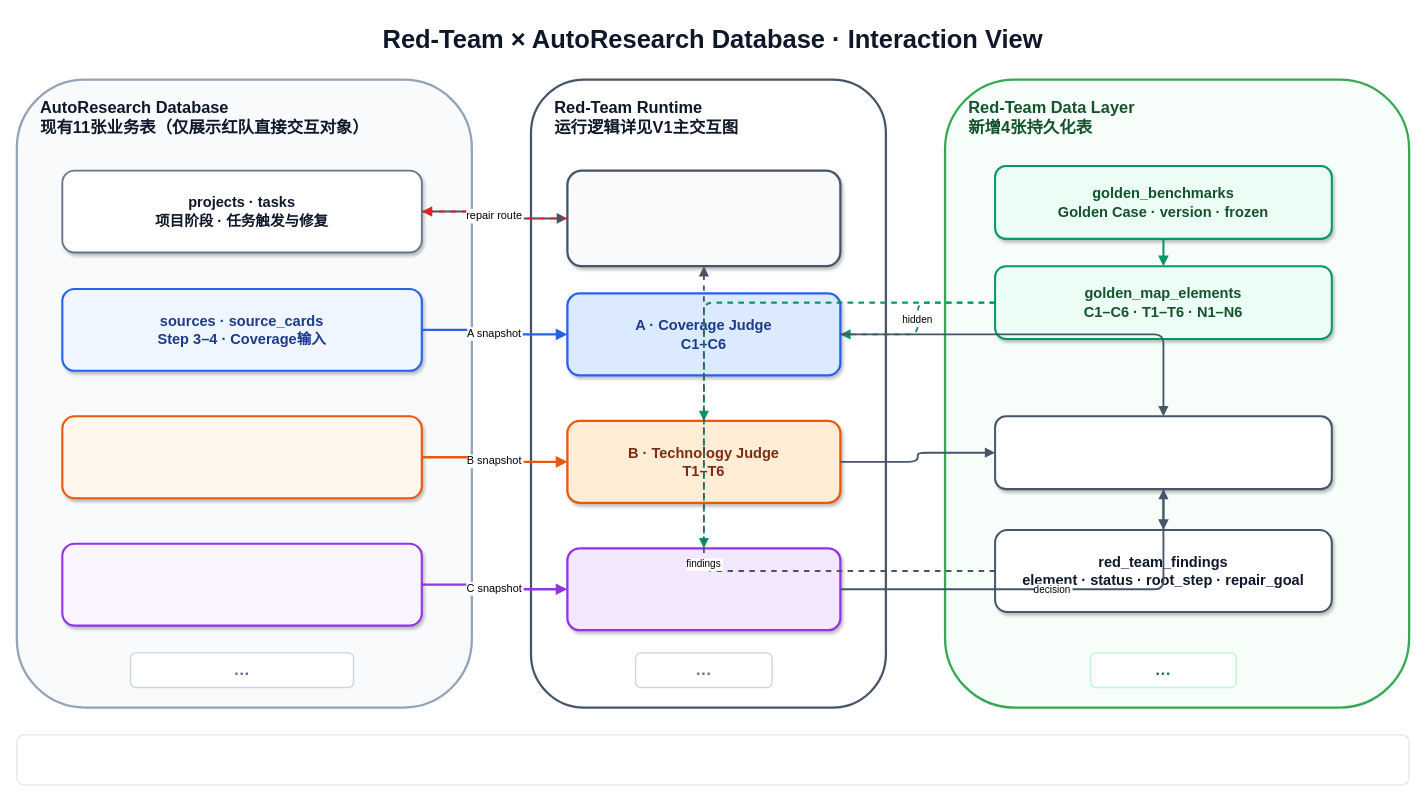
The diagram is 1426 pixels wide and 801 high, and some of its shapes have lost their labels. The shapes that lost their labels are listed below. From the top down, each one's centre as x and y in pixels, then its label:
(704,219): Red-Team Controller 触发 · 判定 · 根因回流
(242,458): directions · outlines · sections Step 5–6 · Technology输入
(1164,453): red_team_runs checkpoint · snapshot · decision · profile
(242,586): sections · citation_issues Step 7–8 · Narrative输入
(704,590): C · Narrative Judge N1–N6
(712,759): 蓝/橙/紫：A/B/C冻结产物 · 绿色虚线：隐藏Golden Map · 灰色：判定持久化 · 红色虚线：修复任务回流 · …：非关键关系
